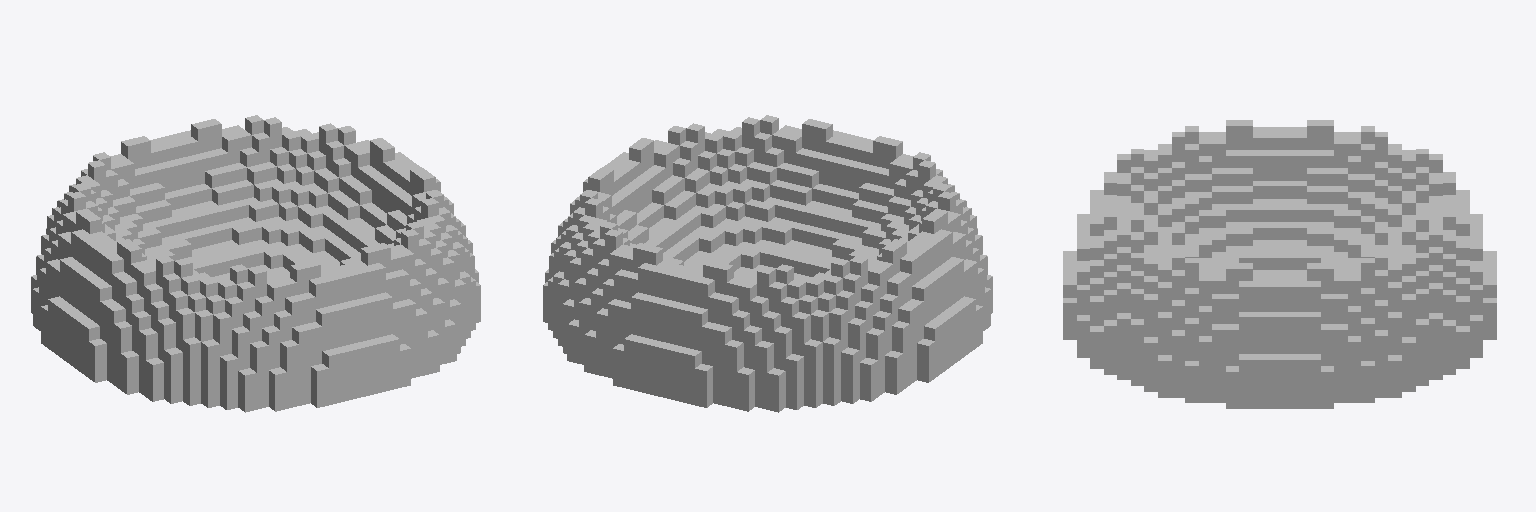
The model's file is Alien gunv2-1.obj.
The picture shows the model from 3 angles: view 1: azimuth 30°, elevation 25°; view 2: azimuth 150°, elevation 25°; view 3: azimuth 270°, elevation 25°; orthographic projection.
Parts seen in each view (by area): view 1: object 1; view 2: object 1; view 3: object 1.
Boxes of the visible parts, box(x1,y1,x2,y2) form: object 1: box(31, 115, 480, 412); object 1: box(543, 115, 992, 412); object 1: box(1063, 120, 1496, 408).
Bounding box in the file's own units: 3.2 × 1 × 3.2.